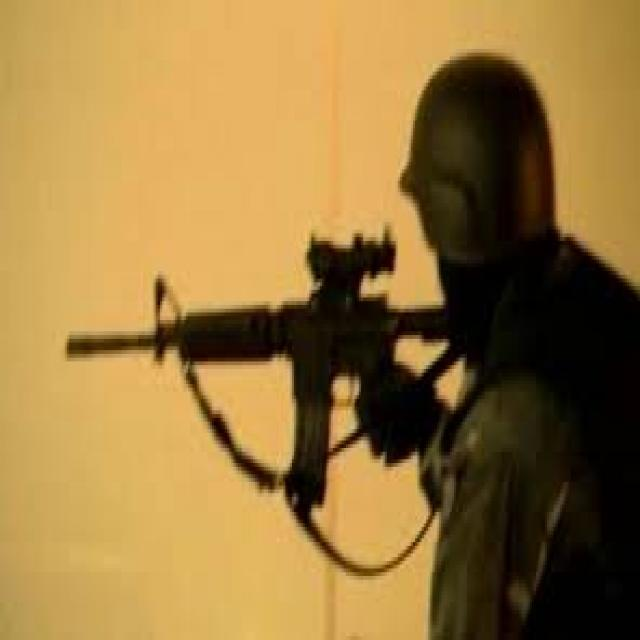weapon: (63, 229, 450, 521)
